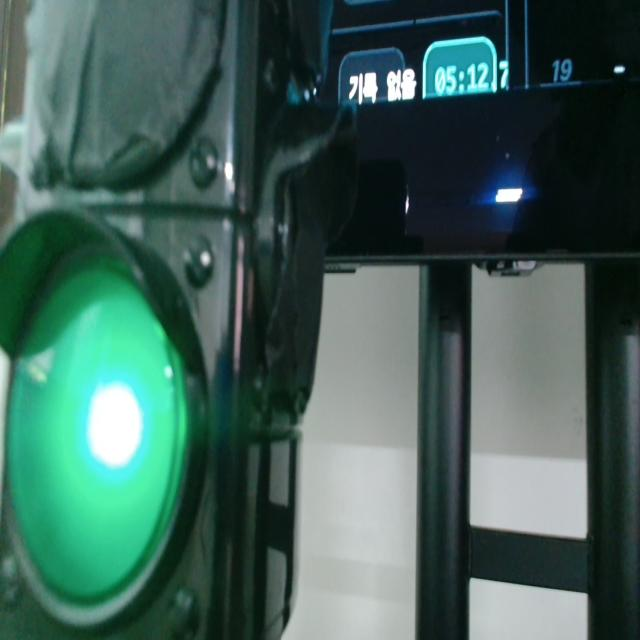green_light: (7, 264, 189, 604)
